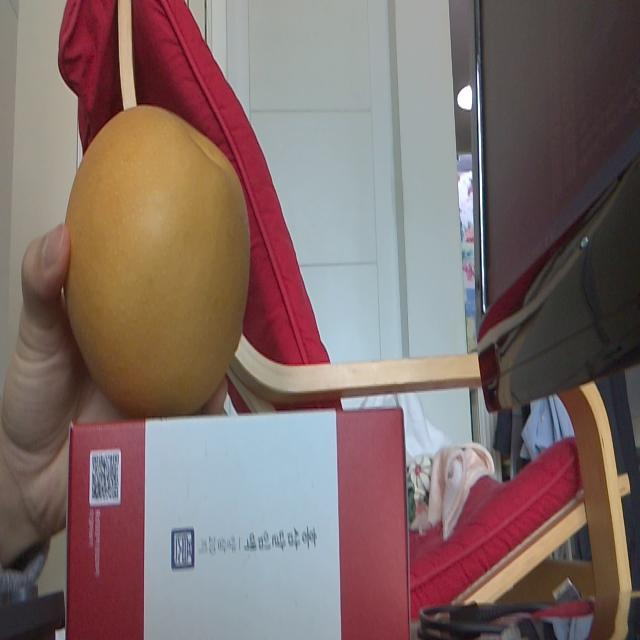pear: (58, 101, 252, 419)
